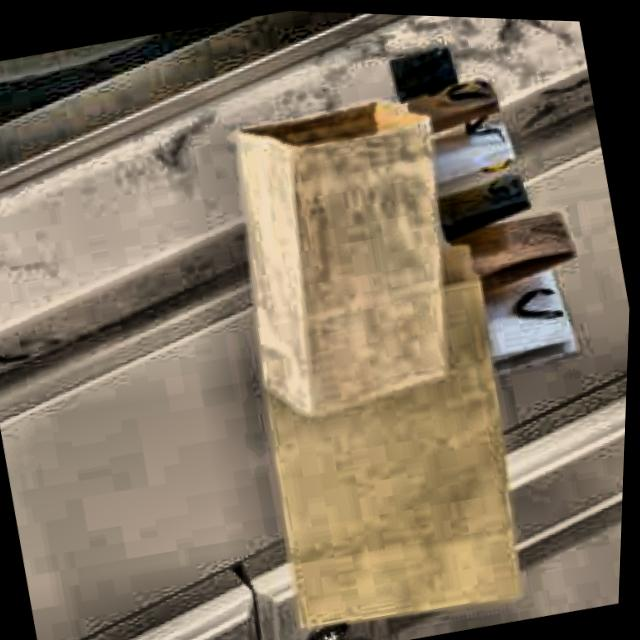Paper-bag: (223, 217, 561, 640), (206, 75, 483, 430), (375, 22, 616, 399)
